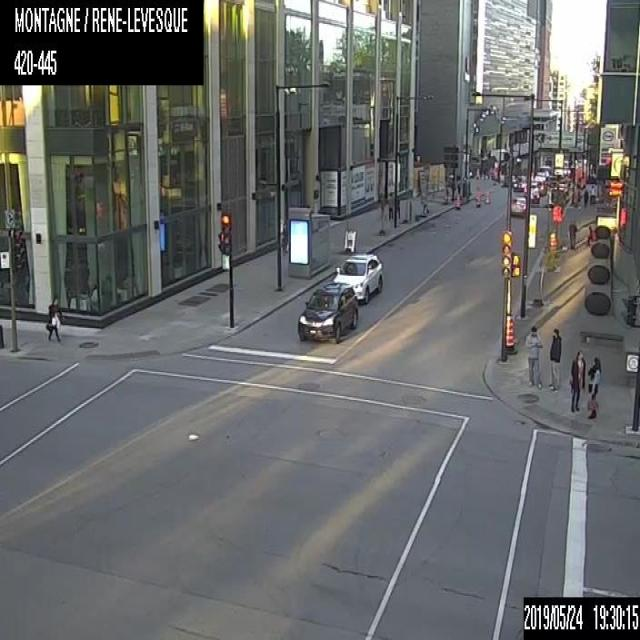construction: (504, 312, 514, 352), (549, 232, 557, 258), (552, 203, 562, 220), (485, 187, 489, 204), (455, 192, 458, 208), (476, 190, 479, 206)
pedestrian: (568, 351, 586, 411), (586, 353, 602, 416), (524, 325, 539, 384), (548, 328, 560, 389), (45, 296, 60, 341), (386, 190, 394, 218), (568, 223, 576, 248), (586, 224, 594, 247), (583, 188, 587, 205)
vehicle: (294, 282, 360, 342), (331, 251, 383, 303), (523, 182, 539, 202), (510, 196, 527, 214), (512, 173, 528, 190), (535, 168, 549, 186), (533, 175, 546, 194)
